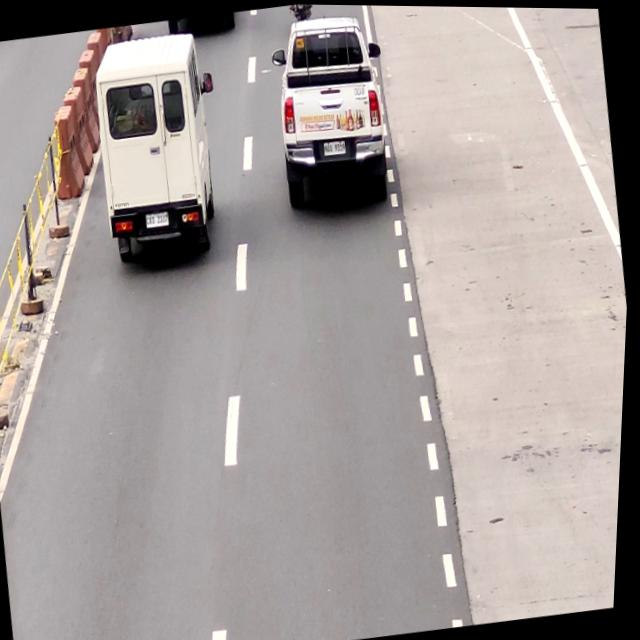Car: (83, 28, 229, 265), (265, 10, 400, 216)
License-Plate: (146, 211, 173, 231), (324, 137, 349, 157)
